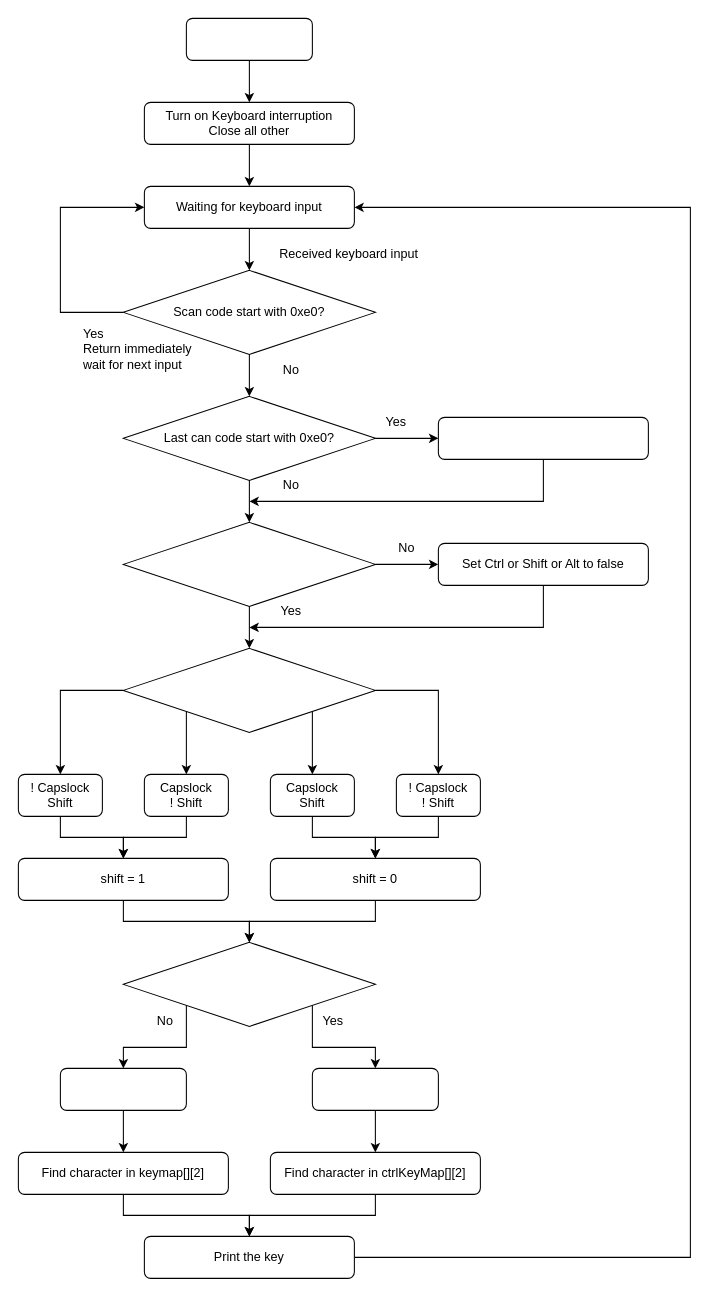
Image size: 717x1297. Some labels were removed from this diagram. Each missing label, with the box of its shape:
Capslock argues with Shift: (122, 647, 375, 732)
Combine this and last scan code. 0xe000 or scancode: (437, 416, 648, 459)
ctrl = 0 shift = shift: (59, 1067, 186, 1110)
ctrl = 1 shift = 0: (311, 1067, 438, 1110)
Ctrl or Shift or Alt Pressed?: (122, 521, 375, 606)
Ctrl pressed?: (122, 941, 375, 1026)
Kernel inits: (185, 17, 312, 60)
